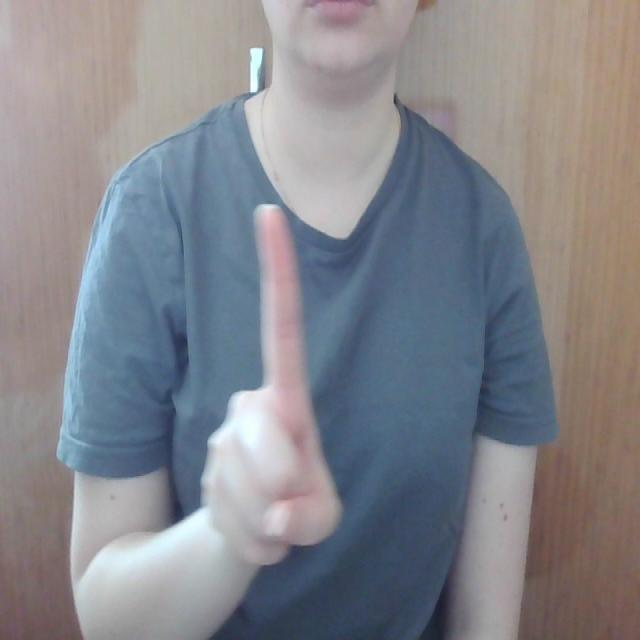Hayir: (190, 167, 346, 570)
